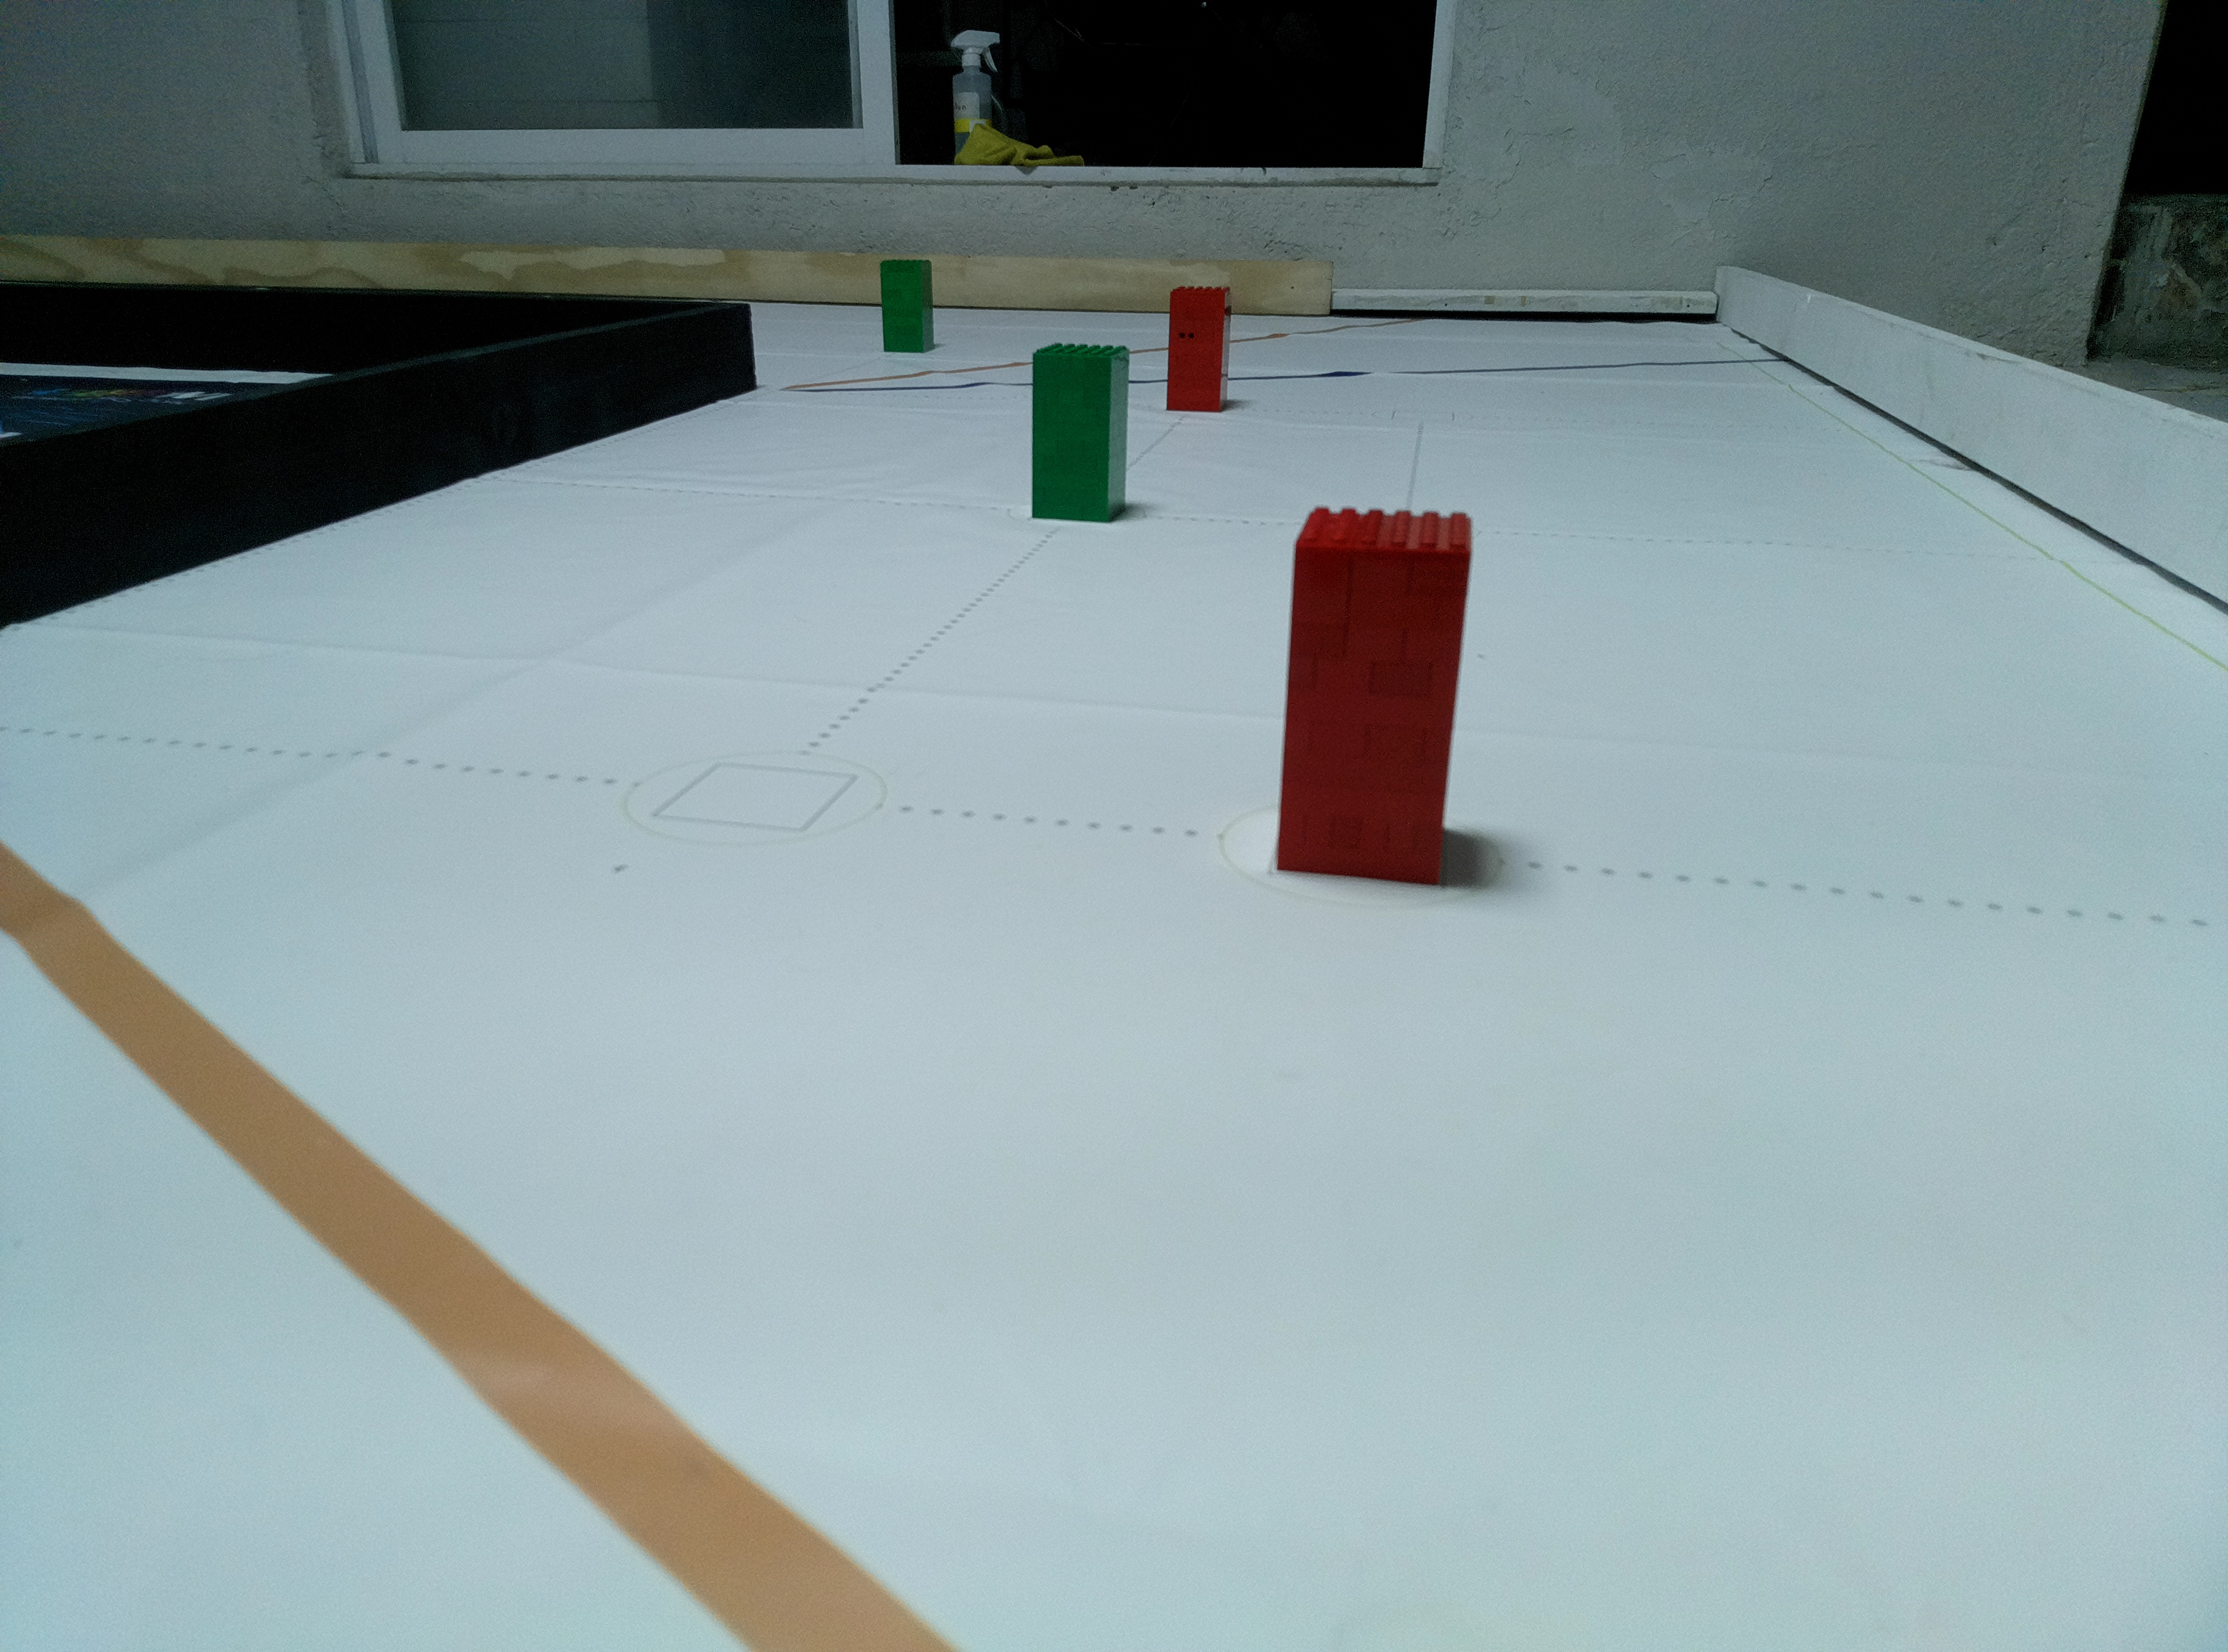greenbox: (1031, 342, 1128, 526), (880, 260, 935, 352)
redbox: (1275, 503, 1477, 888), (1164, 285, 1234, 415)
